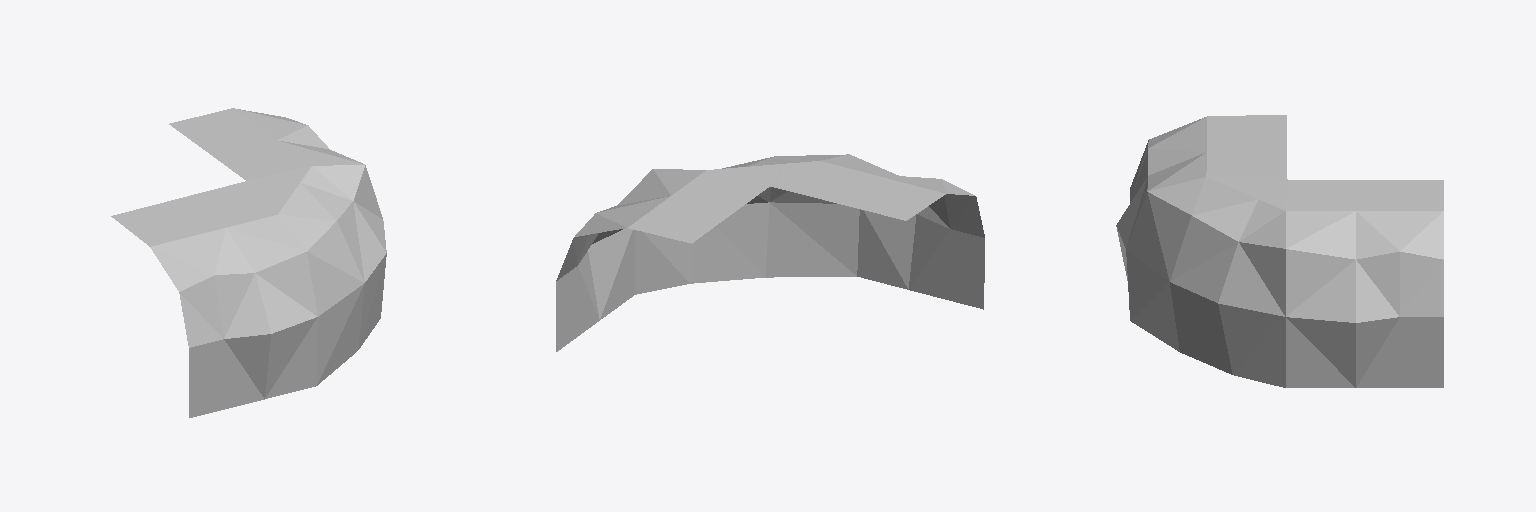
File: Jump Small Ledge corner.obj
3 renders of one model, left to right at view 1: azimuth 30°, elevation 25°; view 2: azimuth 150°, elevation 25°; view 3: azimuth 270°, elevation 25°, orthographic.
Visible parts, largest first — view 1: Cube_Cube.001; view 2: Cube_Cube.001; view 3: Cube_Cube.001.
Part boxes in pixels (left/top/right/bottom): Cube_Cube.001: left=111, top=108, right=386, bottom=417; Cube_Cube.001: left=556, top=154, right=984, bottom=351; Cube_Cube.001: left=1116, top=115, right=1443, bottom=387.
Size of the model in its own units: 2.09 by 1.03 by 2.08.